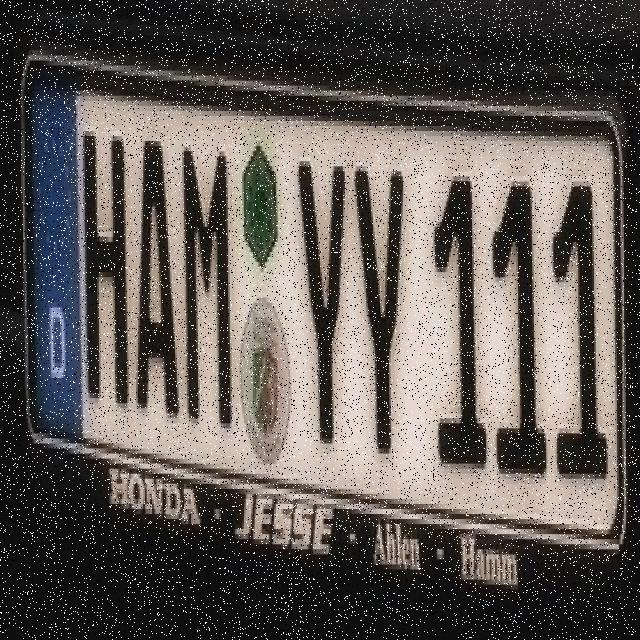licenseplate: (12, 17, 634, 605)
